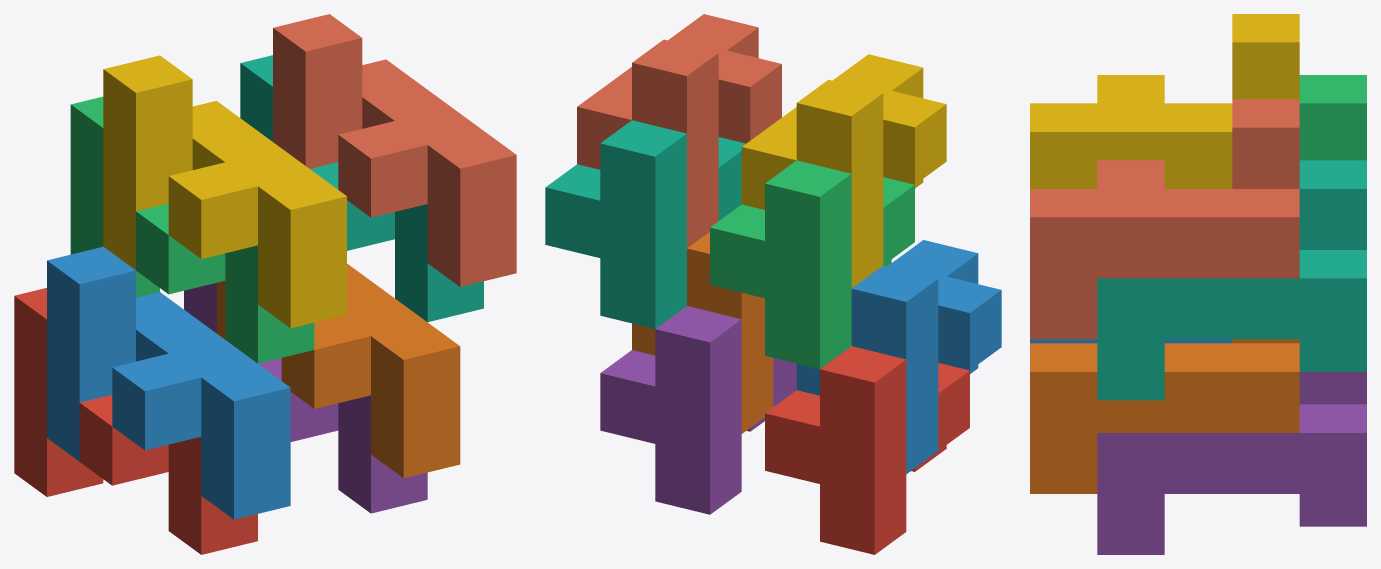
The model's file is tiling.obj.
The picture shows the model from 3 angles, left to right: view 1: azimuth 30°, elevation 25°; view 2: azimuth 150°, elevation 25°; view 3: azimuth 270°, elevation 25°; orthographic projection. The views are drawn at different scales.
Parts seen in each view (by area): view 1: copy_1_domain_4, copy_1_domain_2, copy_1_domain_8, copy_1_domain_6, copy_1_domain_1, copy_1_domain_3, copy_1_domain_7, copy_1_domain_5; view 2: copy_1_domain_1, copy_1_domain_3, copy_1_domain_7, copy_1_domain_5, copy_1_domain_4, copy_1_domain_8, copy_1_domain_2, copy_1_domain_6; view 3: copy_1_domain_8, copy_1_domain_7, copy_1_domain_5, copy_1_domain_6, copy_1_domain_4, copy_1_domain_3, copy_1_domain_2.
Boxes of the visible parts, bbox=[...] form: copy_1_domain_4: bbox=[103, 55, 346, 328]; copy_1_domain_2: bbox=[47, 246, 290, 519]; copy_1_domain_8: bbox=[273, 14, 516, 286]; copy_1_domain_6: bbox=[216, 263, 460, 478]; copy_1_domain_1: bbox=[14, 288, 257, 554]; copy_1_domain_3: bbox=[70, 96, 314, 363]; copy_1_domain_7: bbox=[240, 55, 483, 322]; copy_1_domain_5: bbox=[184, 283, 427, 513]; copy_1_domain_1: bbox=[765, 346, 969, 554]; copy_1_domain_3: bbox=[710, 160, 914, 369]; copy_1_domain_7: bbox=[545, 120, 745, 328]; copy_1_domain_5: bbox=[600, 306, 796, 514]; copy_1_domain_4: bbox=[741, 54, 946, 287]; copy_1_domain_8: bbox=[577, 14, 781, 247]; copy_1_domain_2: bbox=[796, 240, 1001, 473]; copy_1_domain_6: bbox=[632, 232, 773, 433]; copy_1_domain_8: bbox=[1030, 99, 1299, 339]; copy_1_domain_7: bbox=[1097, 160, 1366, 400]; copy_1_domain_5: bbox=[1097, 372, 1366, 554]; copy_1_domain_6: bbox=[1030, 339, 1299, 493]; copy_1_domain_4: bbox=[1030, 14, 1299, 188]; copy_1_domain_3: bbox=[1299, 75, 1366, 160]; copy_1_domain_2: bbox=[1030, 339, 1232, 343].
Size of the model in its own units: 6 by 7 by 5.
